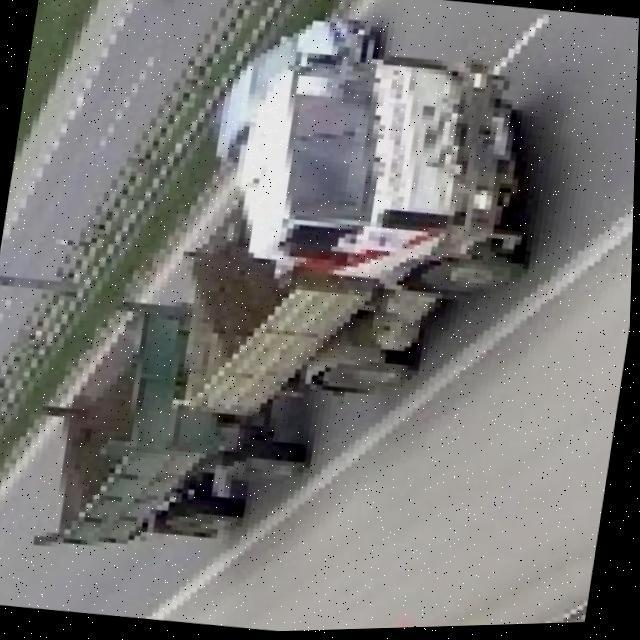truck: (6, 12, 554, 596)
